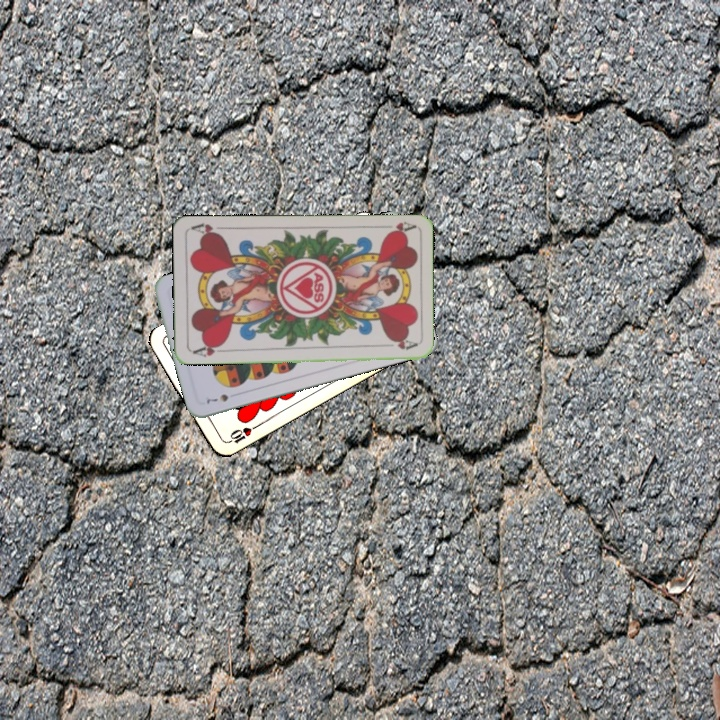H10: (222, 423, 254, 446)
HA: (188, 340, 229, 359), (376, 218, 417, 237)
S7: (201, 390, 231, 406)
